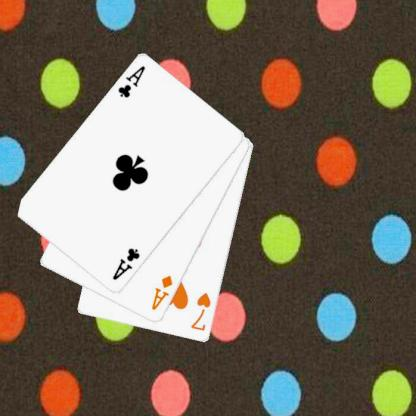7H: (188, 290, 212, 332)
AC: (109, 245, 141, 282), (115, 63, 147, 100)
AD: (148, 273, 174, 312)
